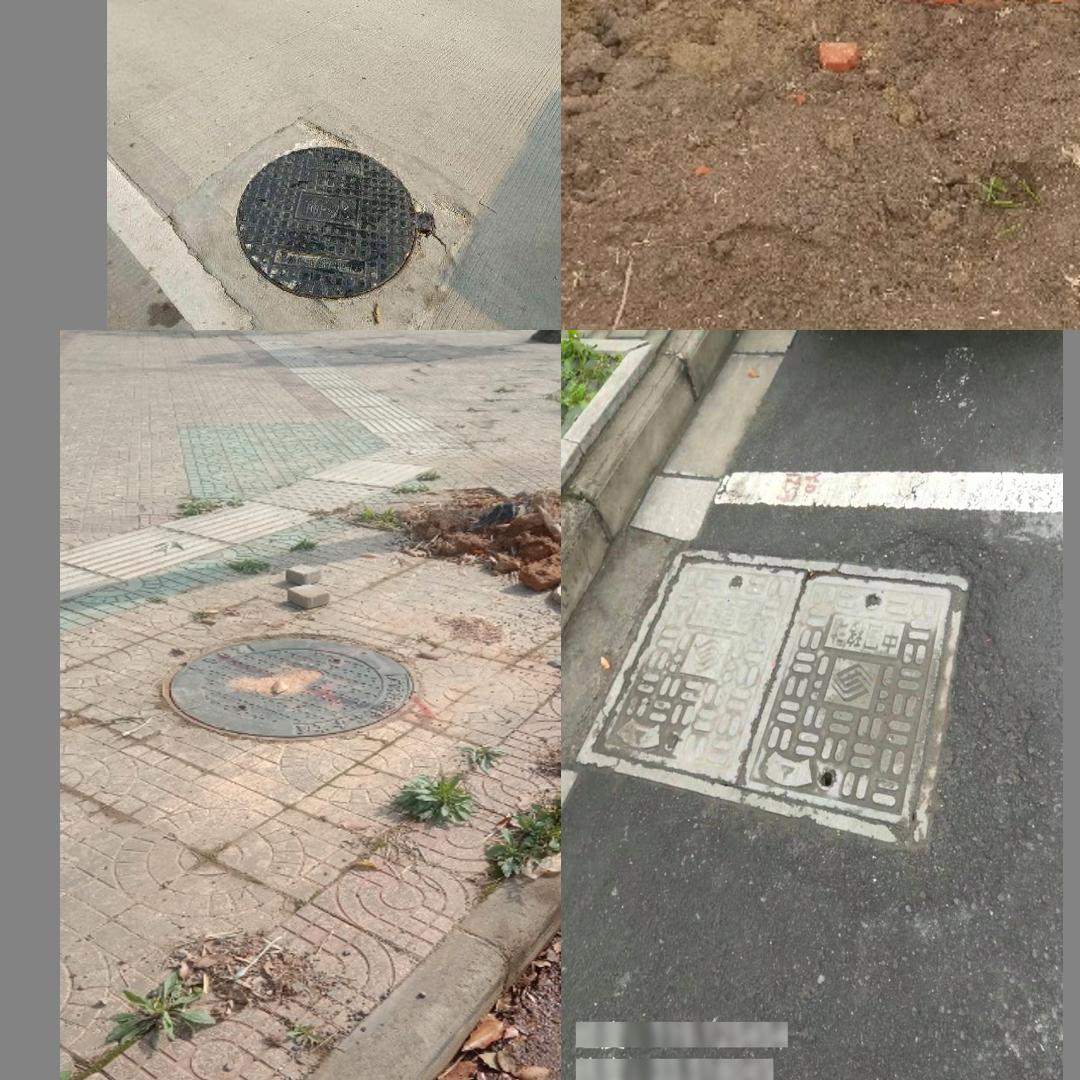good: (572, 551, 966, 846), (166, 114, 479, 328), (166, 637, 431, 738)
